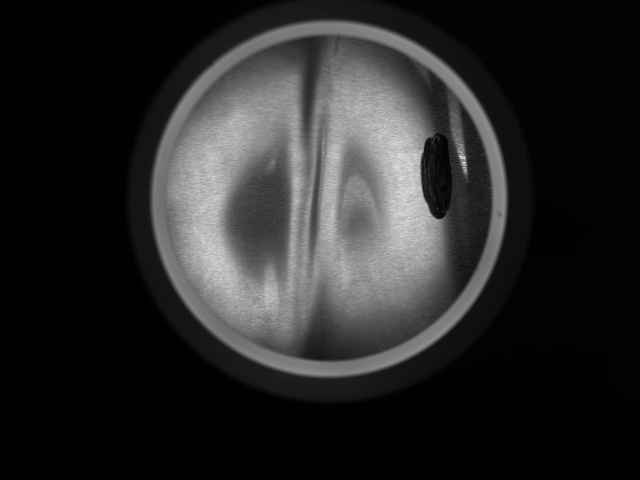zang_wu: (418, 132, 457, 220)
zhe_zhou: (208, 64, 448, 330)
